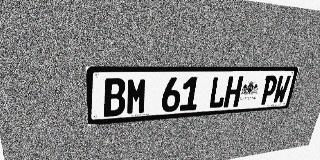1: (179, 77, 201, 111)
6: (161, 77, 183, 112)
B: (103, 78, 126, 117)
H: (223, 76, 244, 108)
L: (208, 76, 228, 109)
M: (126, 78, 148, 115)
P: (259, 75, 279, 105)
W: (272, 75, 291, 104)
